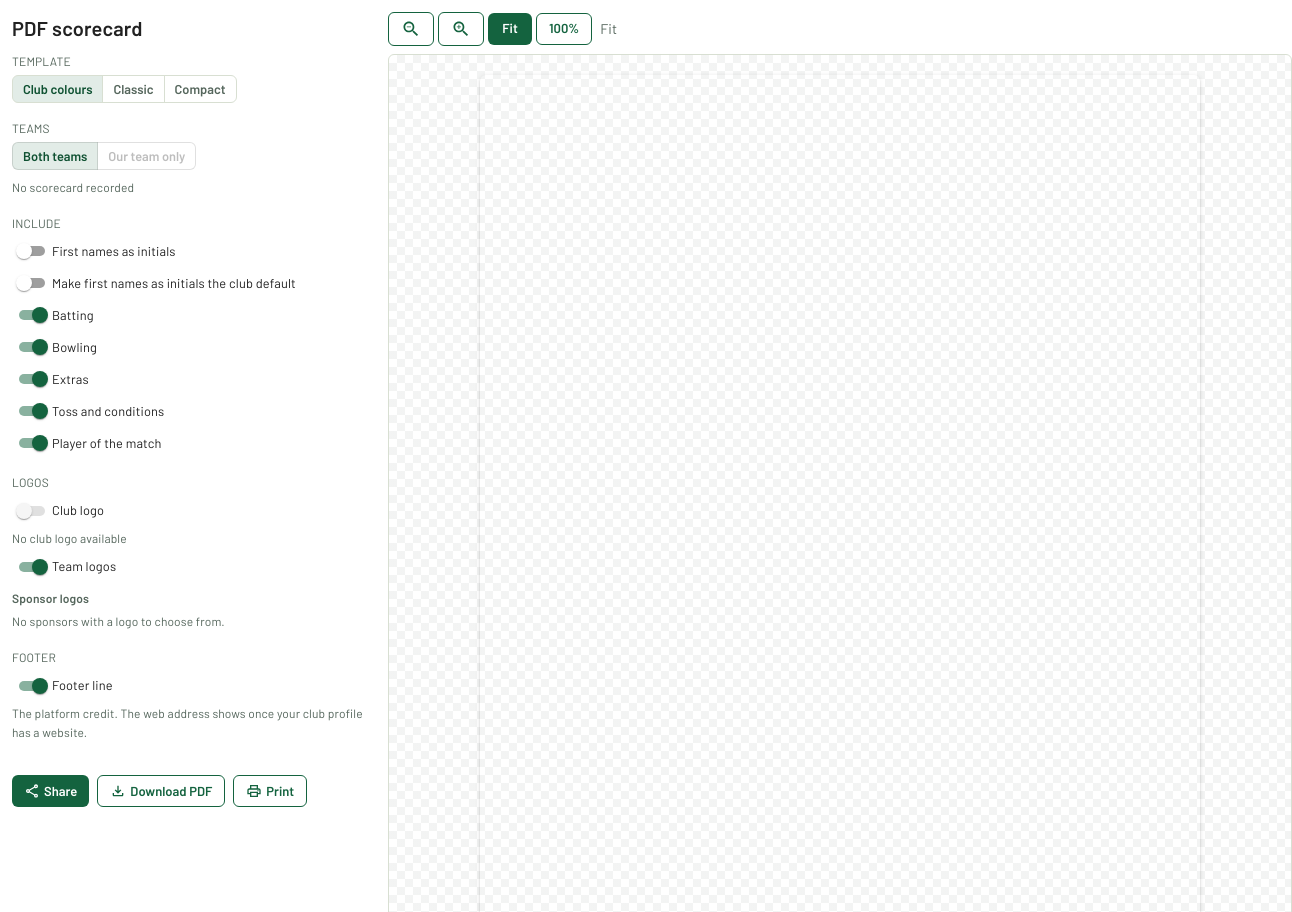
Test: shows an inline error, keeps the screen and keeps Download, when the share sheet fails for a real reason
Click the button "Share" at (51, 791), box [12,775,89,807]
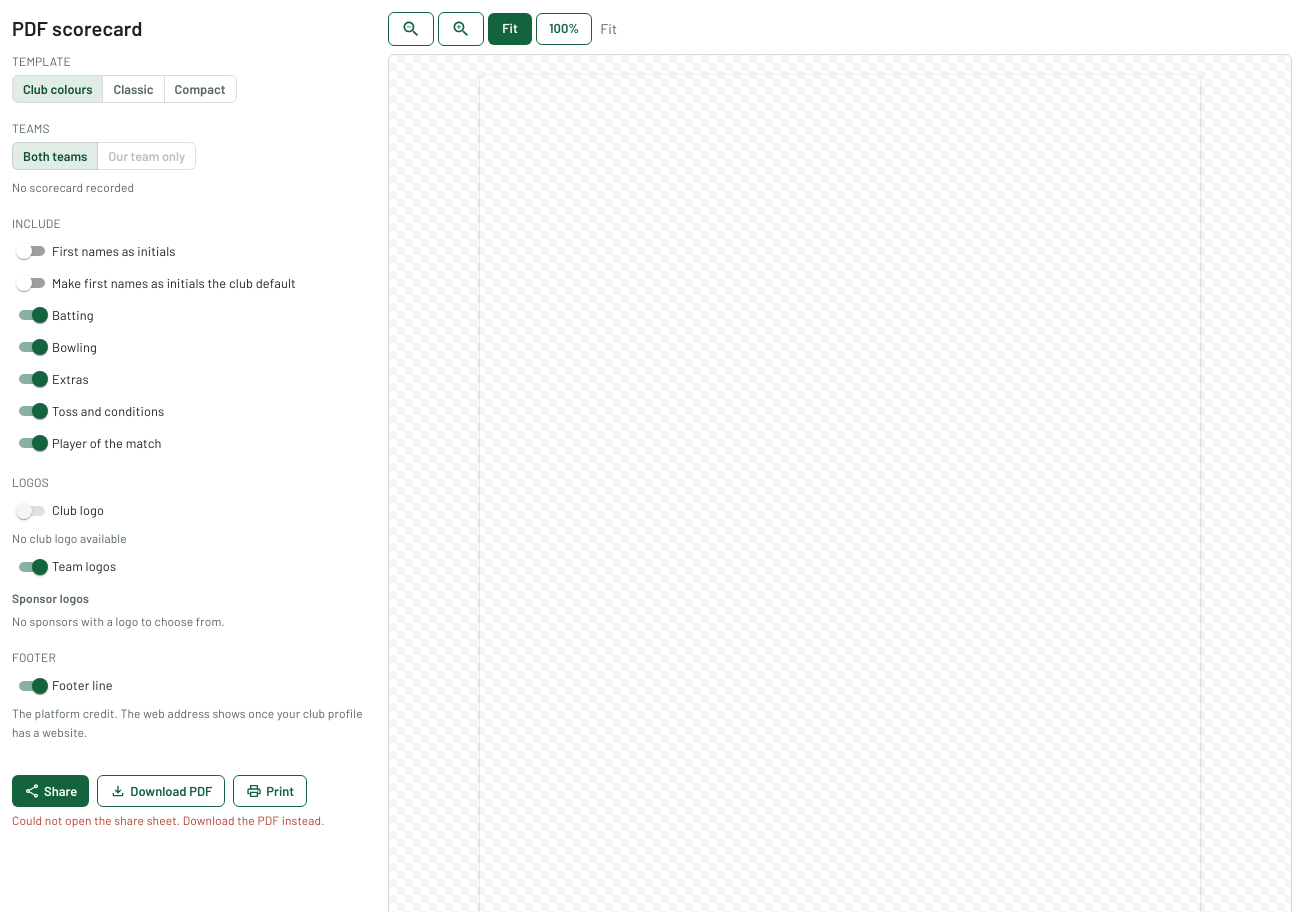
Expected: the button "Download PDF" is enabled, [97,775,225,807]
Result: the text "Could not open the share sheet. Download the PDF instead." is shown at [12,811,372,831]
